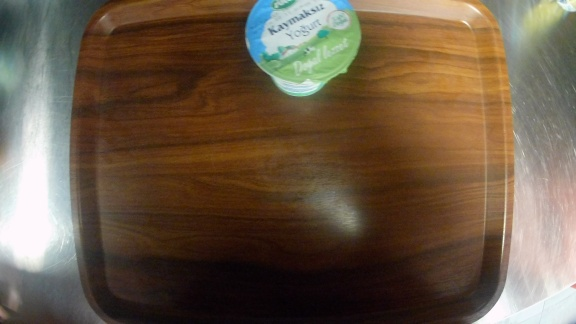yogurt: (235, 1, 369, 100)
